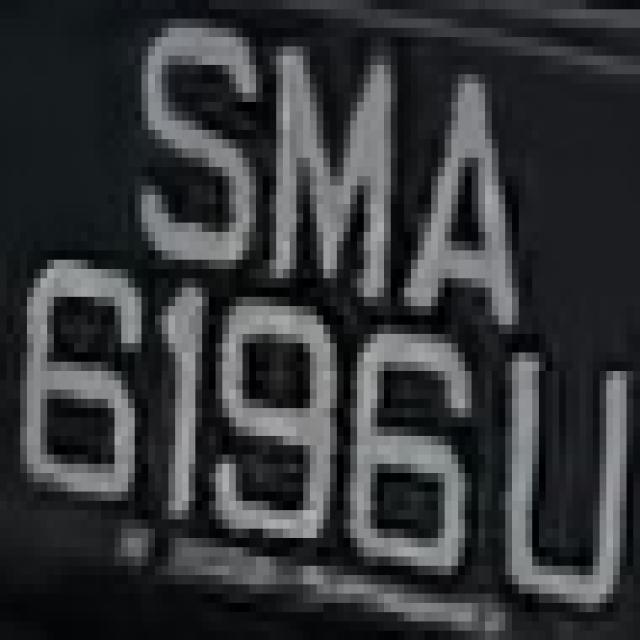1: (148, 269, 216, 519)
6: (20, 213, 142, 520), (344, 297, 478, 575)
9: (209, 260, 330, 575)
A: (391, 47, 532, 380)
M: (263, 28, 404, 306)
S: (115, 28, 262, 297)
U: (492, 334, 633, 640)
